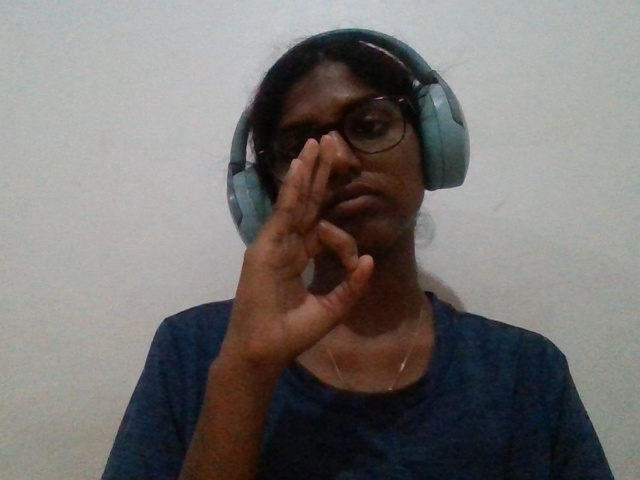F: (181, 106, 415, 480)
